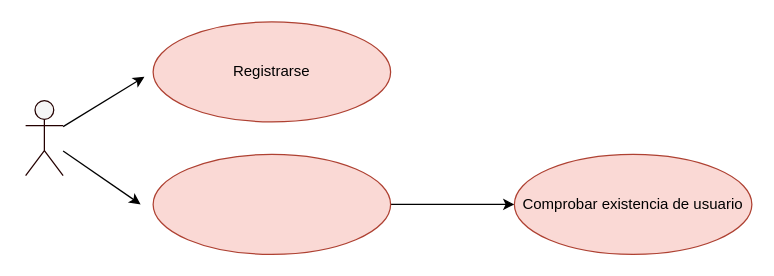
The diagram is 774 pixels wide and 276 high, and some of its shapes have lost their labels. Each missing label, with the centre of its shape:
"Cliente" belongs at (x=43, y=137).
"Iniciar sesion" belongs at (x=271, y=203).
